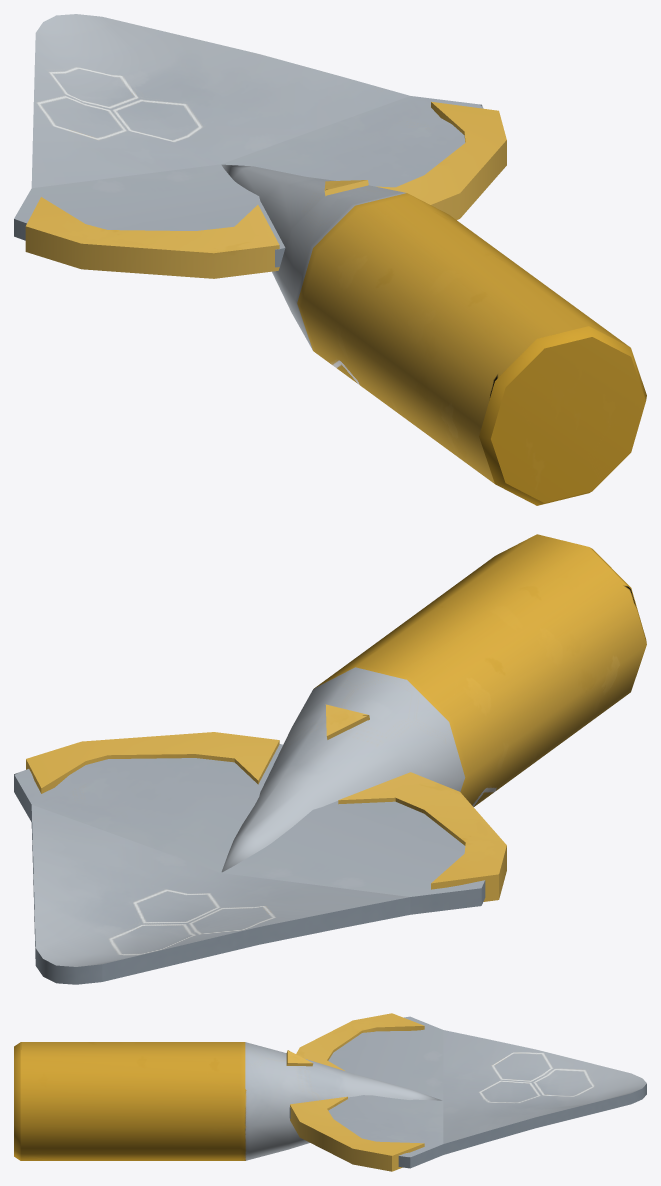
File: Pala_2.FBX
3 views of the same model, one above another, from view 1: azimuth 30°, elevation 25°; view 2: azimuth 150°, elevation 25°; view 3: azimuth 270°, elevation 25° (orthographic). The views are drawn at different scales.
Parts seen in each view (by area): view 1: Plane001; view 2: Plane001; view 3: Plane001.
Part boxes in pixels (left/top/right/bottom): Plane001: left=14, top=14, right=646, bottom=505; Plane001: left=14, top=534, right=646, bottom=984; Plane001: left=14, top=1013, right=646, bottom=1171.
Bounding box in the file's own units: 13.53 × 4.57 × 25.36.
1 material, 1 textured.
